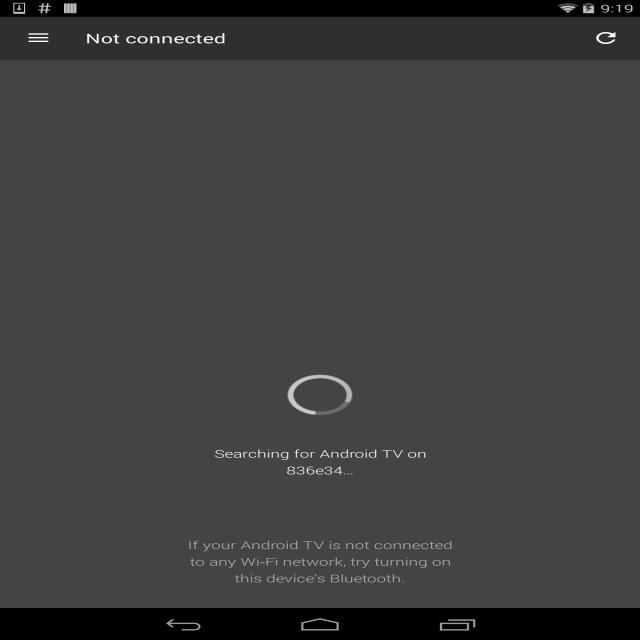ImageButton: (9, 17, 68, 59)
ImageView: (0, 60, 640, 61)
ProgressBar: (278, 369, 362, 421)
TextView: (187, 538, 453, 589), (187, 446, 453, 482), (85, 29, 226, 47), (580, 22, 632, 54)
